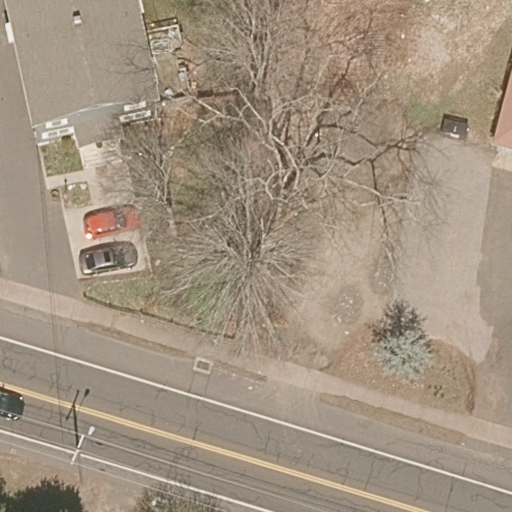DT: (69, 423, 96, 480)
